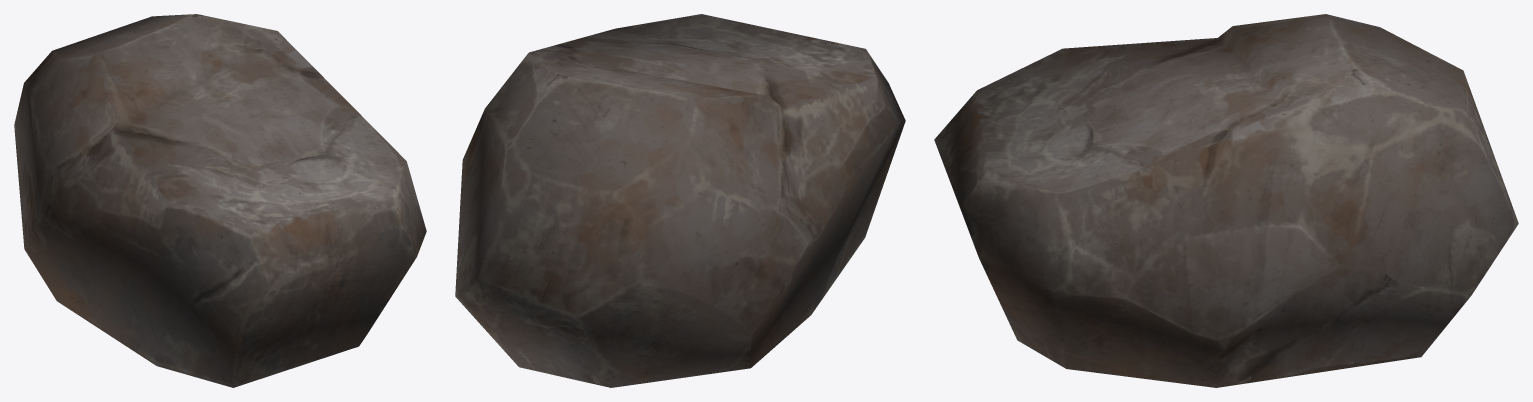
The model's file is Stone_01_b.fbx.
3 renders of one model, left to right at view 1: azimuth 30°, elevation 25°; view 2: azimuth 150°, elevation 25°; view 3: azimuth 270°, elevation 25°, orthographic. The views are drawn at different scales.
Parts seen in each view (by area): view 1: Stone_01_b; view 2: Stone_01_b; view 3: Stone_01_b.
Boxes of the visible parts, x1,y1,x2,y2 form: Stone_01_b: (14, 14, 426, 387); Stone_01_b: (455, 14, 905, 387); Stone_01_b: (934, 14, 1518, 387).
Bounding box in the file's own units: 187 × 148 × 272.
